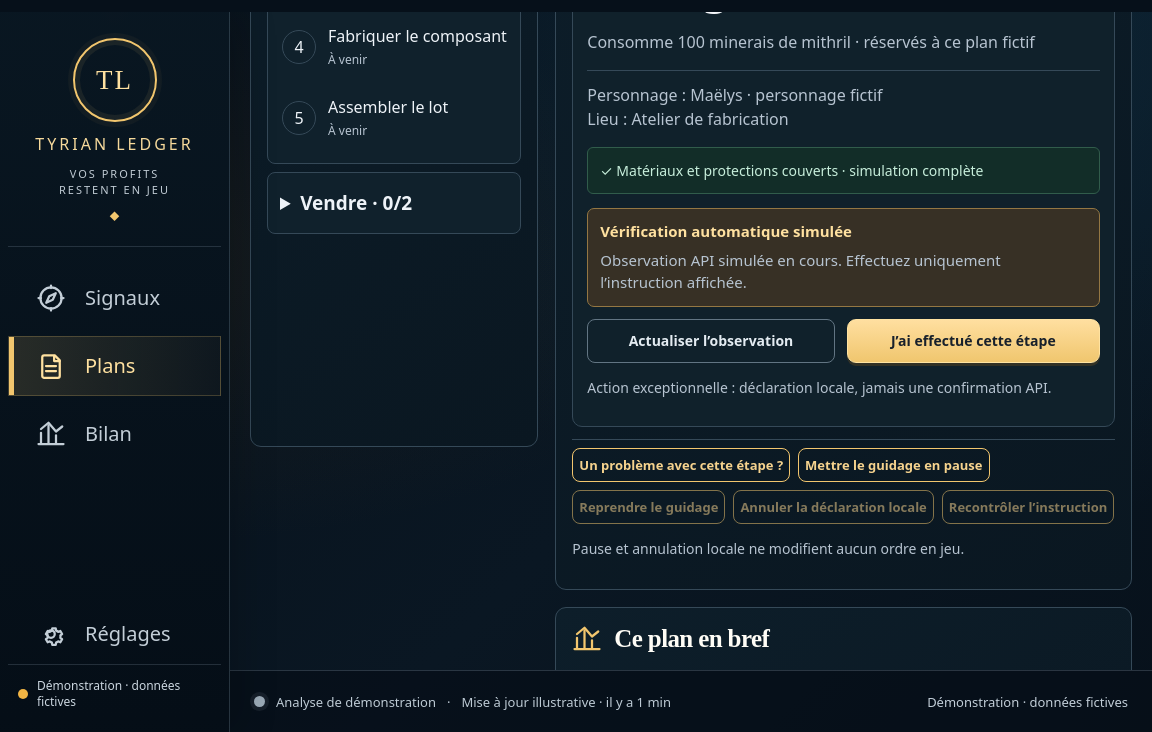
comparison and execution through the fixture provider › invalidates a pending old-account intent before retry, and ignores delayed old acknowledgements
(page scrolled)
Click the button "J’ai effectué cette étape".
click(973, 341)  # box [847,319,1100,363]
(page scrolled)
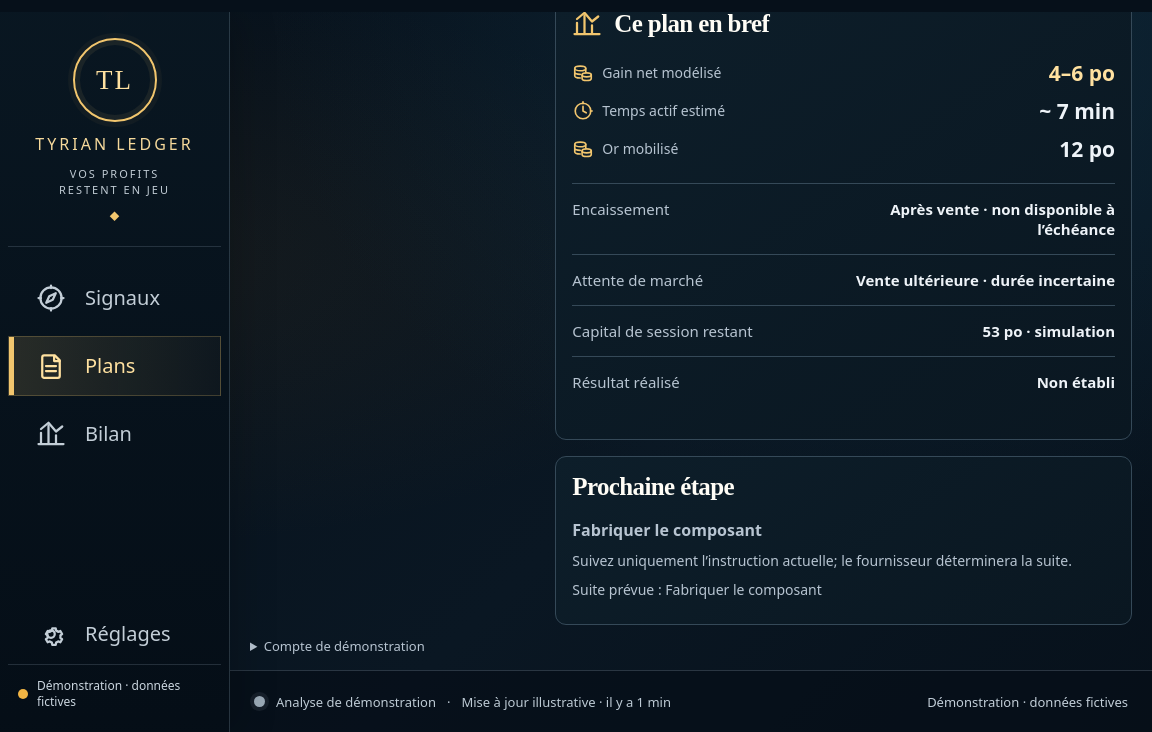
Click the heading "Compte de démonstration".
click(344, 646)  # box [264,637,425,655]
(page scrolled)
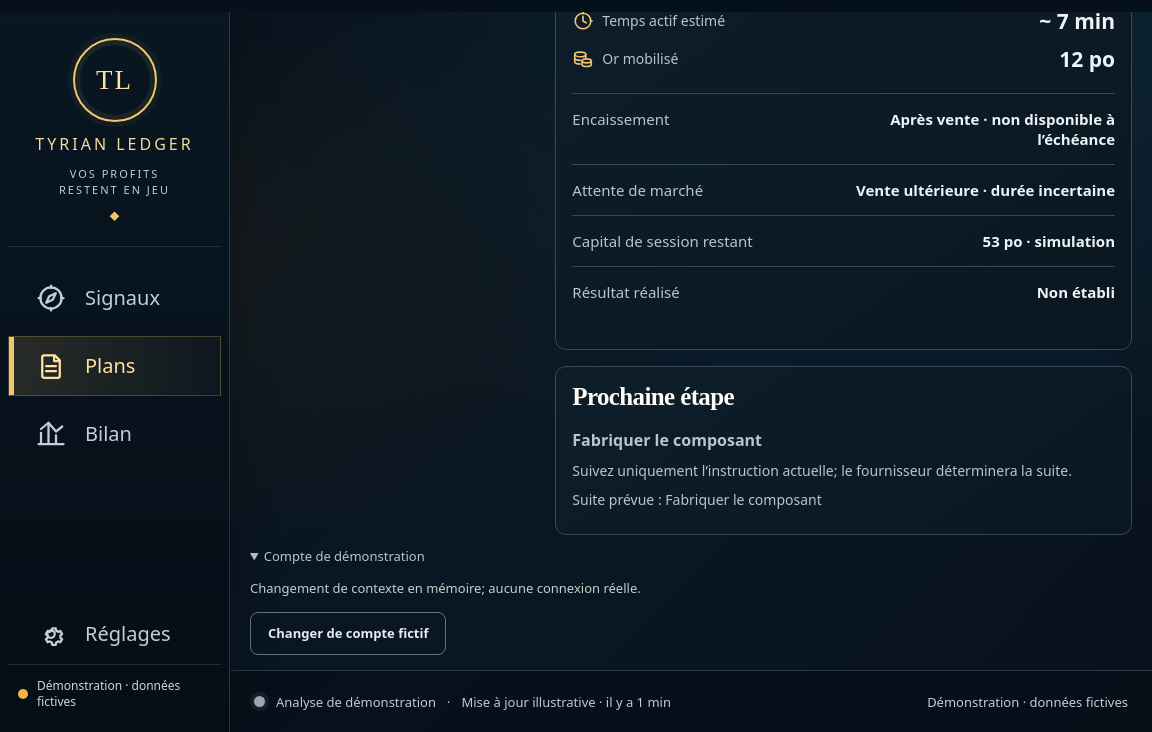
Click the button "Changer de compte fictif".
click(348, 633)  # box [250,612,446,655]
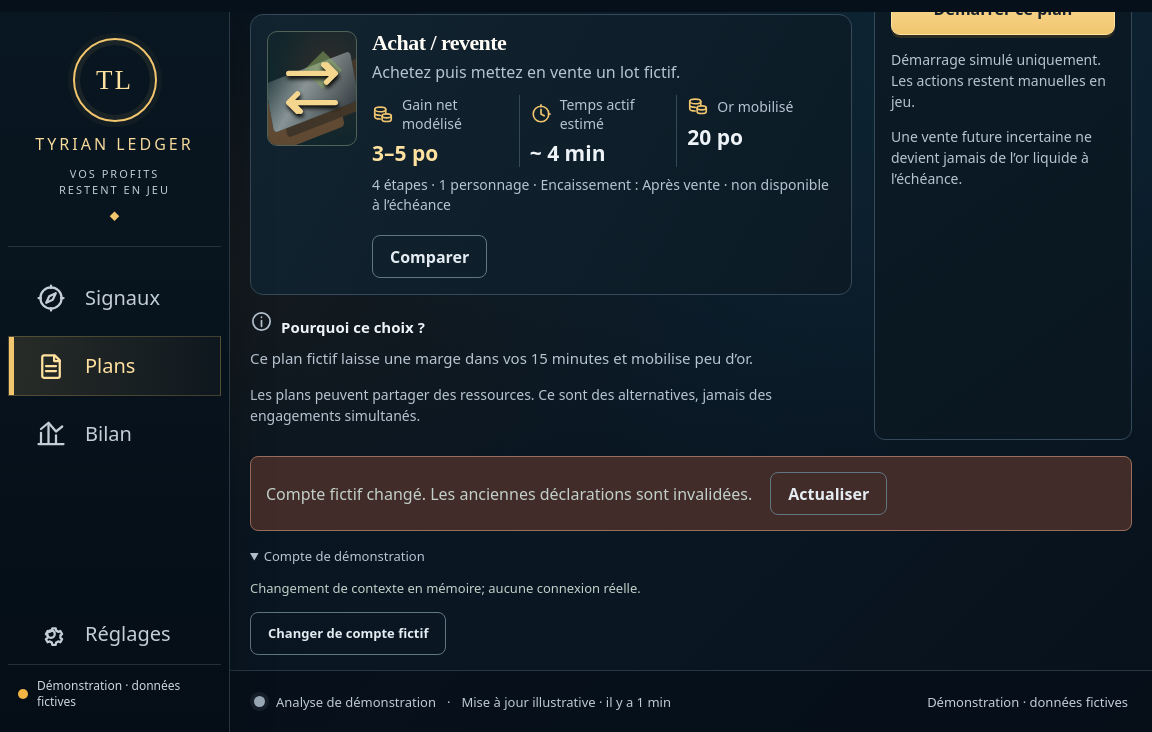
Expected: the message shows "anciennes déclarations sont invalidées", [266,483,752,505]
